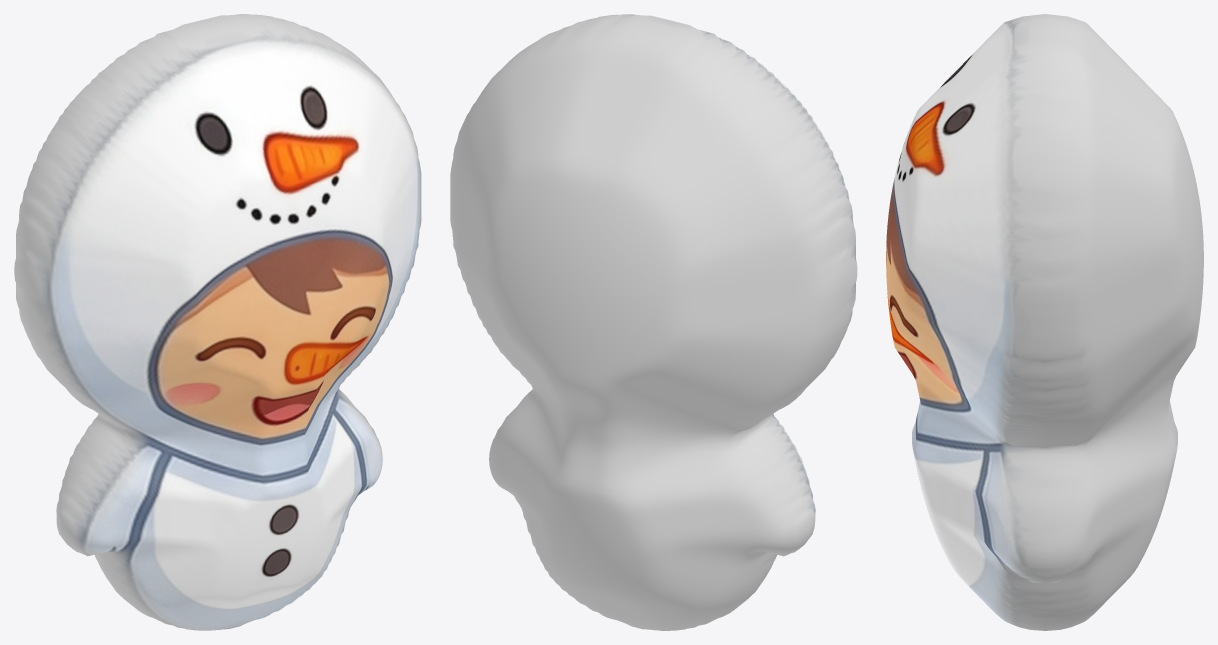
Rendered from theme-snowman.glb.
3 views of the same model, side by side, from view 1: azimuth 30°, elevation 25°; view 2: azimuth 150°, elevation 25°; view 3: azimuth 270°, elevation 25° (orthographic). The views are drawn at different scales.
Parts seen in each view (by area): view 1: HeadArtwork, HeadSolid; view 2: HeadSolid, HeadArtwork; view 3: HeadSolid, HeadArtwork.
Part boxes in pixels (<box>): HeadArtwork: <box>41,37,420,630</box>; HeadSolid: <box>14,14,421,630</box>; HeadSolid: <box>450,14,857,630</box>; HeadArtwork: <box>702,31,855,512</box>; HeadSolid: <box>992,14,1203,630</box>; HeadArtwork: <box>886,20,1023,623</box>.
Bounding box in the file's own units: 1.75 × 2.58 × 1.28.
Materials: 2 (1 with a texture image).
